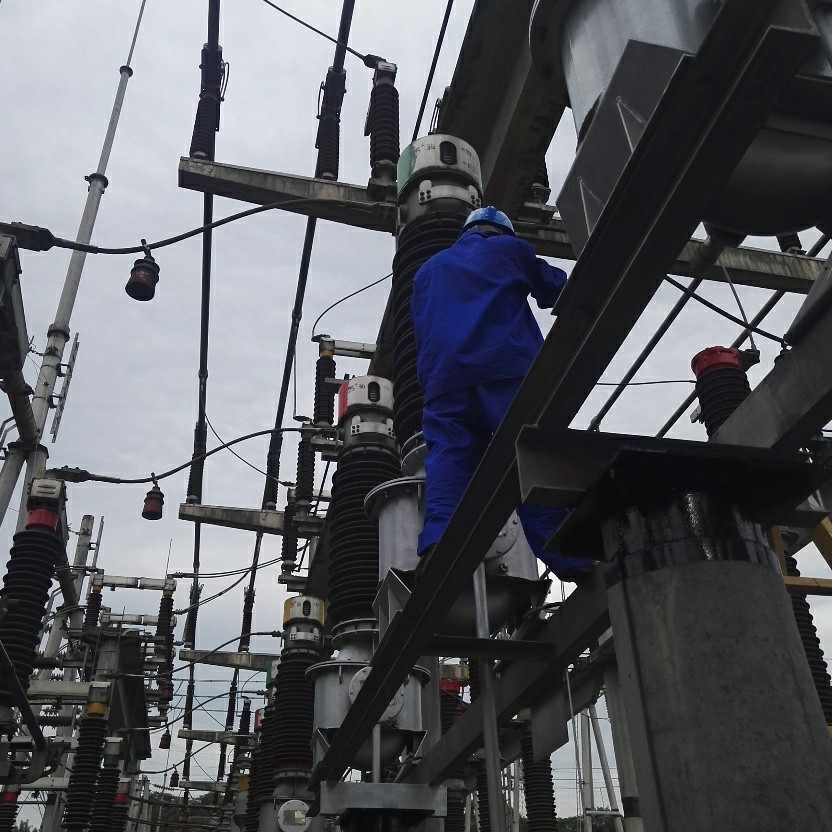hat: (459, 202, 517, 244)
